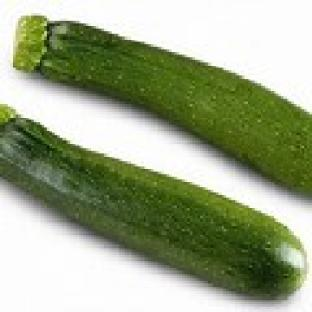Zucchini: (0, 107, 306, 296), (13, 16, 311, 194)
